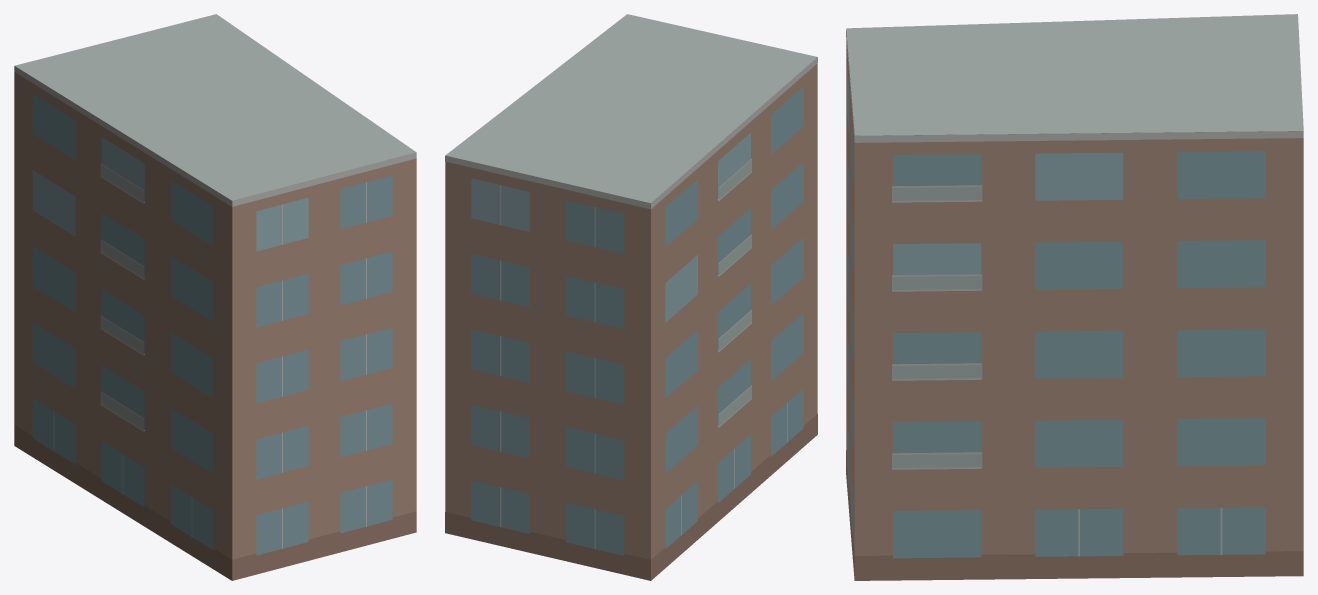
File: survey-upis-32487434.glb
The picture shows the model from 3 angles, left to right: view 1: azimuth 30°, elevation 25°; view 2: azimuth 150°, elevation 25°; view 3: azimuth 270°, elevation 25°; orthographic projection. The views are drawn at different scales.
Parts seen in each view (by area): view 1: survey-upis-32487434.tmp; view 2: survey-upis-32487434.tmp; view 3: survey-upis-32487434.tmp.
Boxes of the visible parts, <box> form: survey-upis-32487434.tmp: <box>14,14,416,580</box>; survey-upis-32487434.tmp: <box>445,14,817,580</box>; survey-upis-32487434.tmp: <box>846,14,1303,580</box>.
Size of the model in its own units: 8.96 by 15.25 by 14.22.
